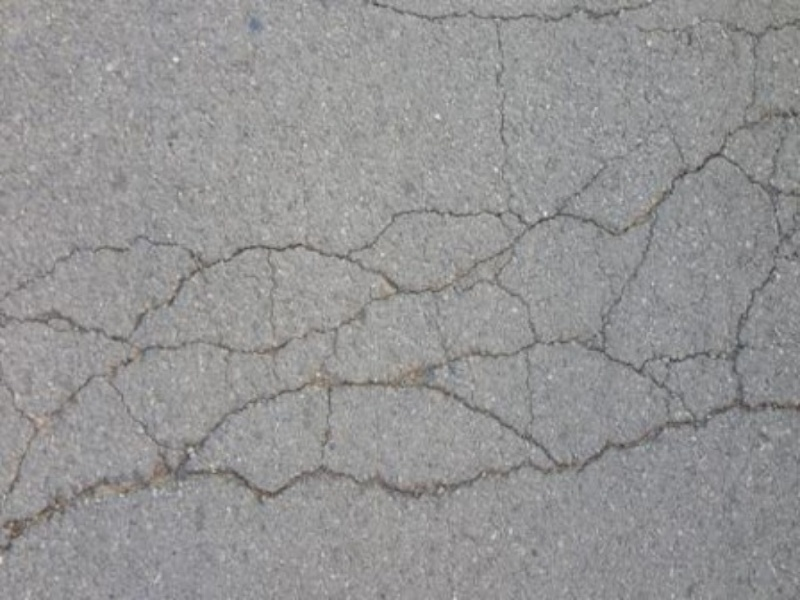crack: (2, 384, 795, 560), (502, 147, 730, 260), (153, 239, 414, 336), (714, 208, 794, 422), (170, 375, 333, 478), (669, 15, 800, 122), (405, 366, 561, 453), (345, 195, 527, 268), (12, 233, 225, 291), (9, 367, 96, 503), (587, 209, 663, 354), (409, 274, 545, 348), (336, 5, 658, 36), (101, 370, 183, 482), (3, 303, 148, 363), (479, 25, 518, 172), (719, 136, 797, 204)
